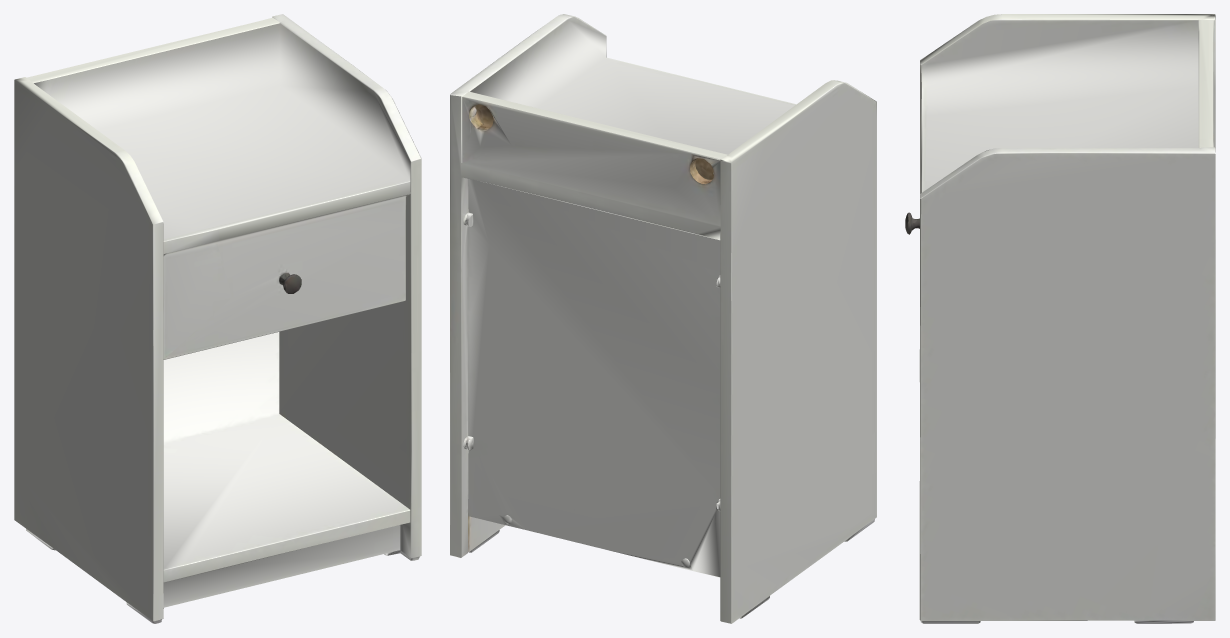
File: 16 - HAUGA - 床邊桌, 白色, 40x36 公分 IKEA 線上購物.glb
The picture shows the model from 3 angles, left to right: view 1: azimuth 30°, elevation 25°; view 2: azimuth 150°, elevation 25°; view 3: azimuth 270°, elevation 25°; orthographic projection. The views are drawn at different scales.
Visible parts, largest first — view 1: ProcessedMeshNode; view 2: ProcessedMeshNode; view 3: ProcessedMeshNode.
Part boxes in pixels (left/top/right/bottom): ProcessedMeshNode: left=14, top=14, right=421, bottom=623; ProcessedMeshNode: left=450, top=14, right=876, bottom=623; ProcessedMeshNode: left=905, top=14, right=1215, bottom=623.
Size of the model in its own units: 0.3961 by 0.6252 by 0.3729.
1 material, 1 textured.
